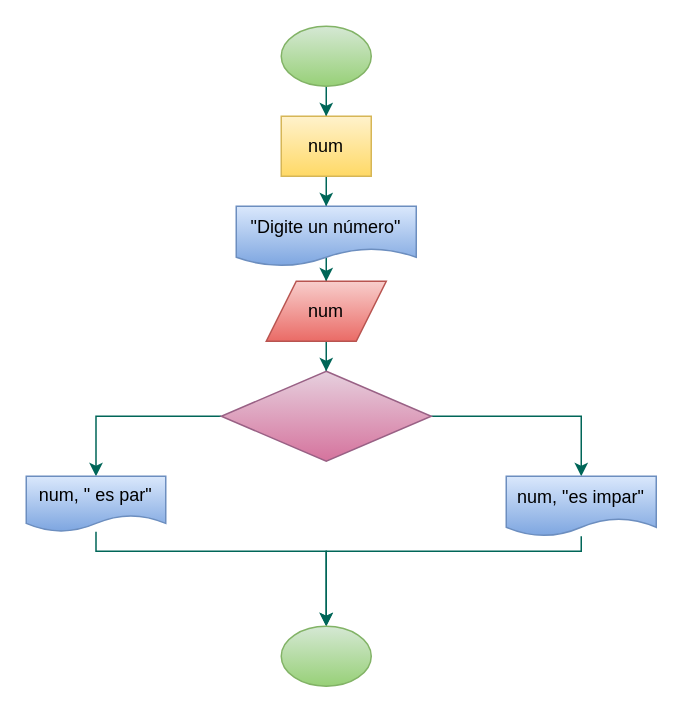
Image size: 683x713. Some labels were removed from this diagram. Here are the shapes that lost their labels. From the top down, the centre of each, then its label:
(325,55): inicio
(325,415): num/(num/2) == 2
(325,655): fin
